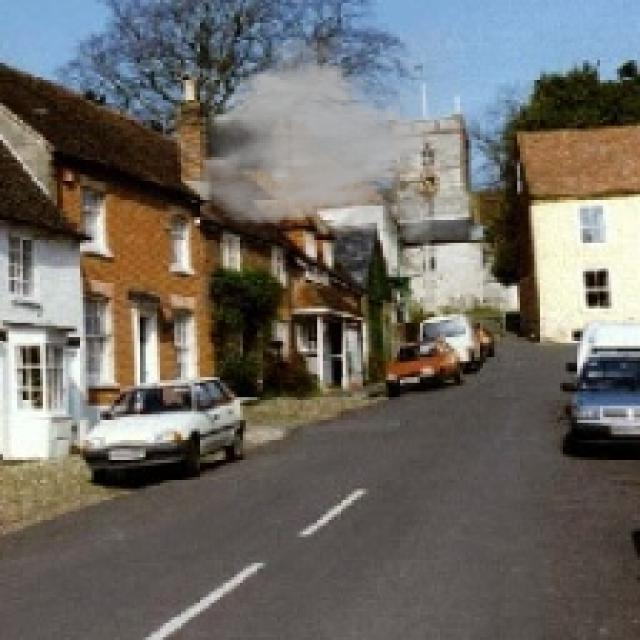Smoke: (185, 32, 460, 248)
